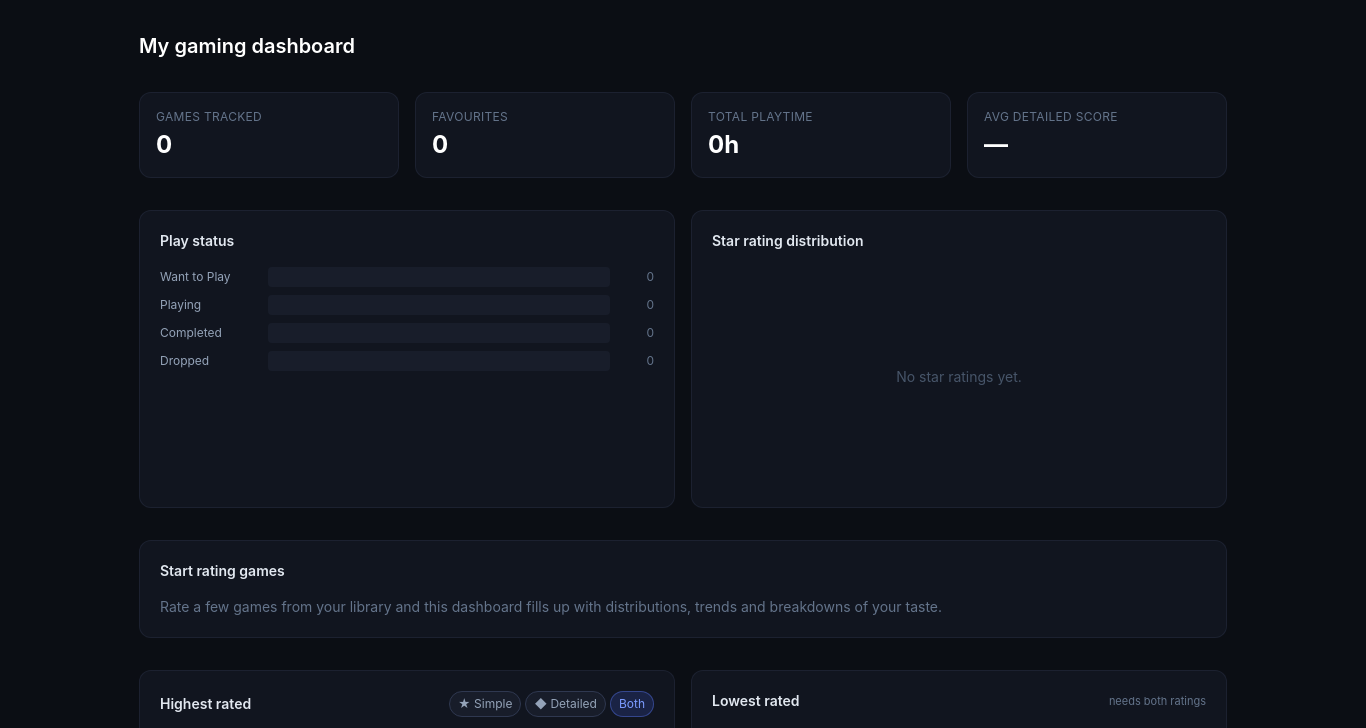
Test: Dashboard — breakdowns and lists › surfaces a refetch failure above the already-loaded stats
The width and height of the screenshot is (1366, 728).
expect the heading "My gaming dashboard" is shown: met, box [139, 34, 355, 58]
Click the button titled "Rank by ★ simple rating".
click(485, 704)  # box [449, 691, 521, 717]
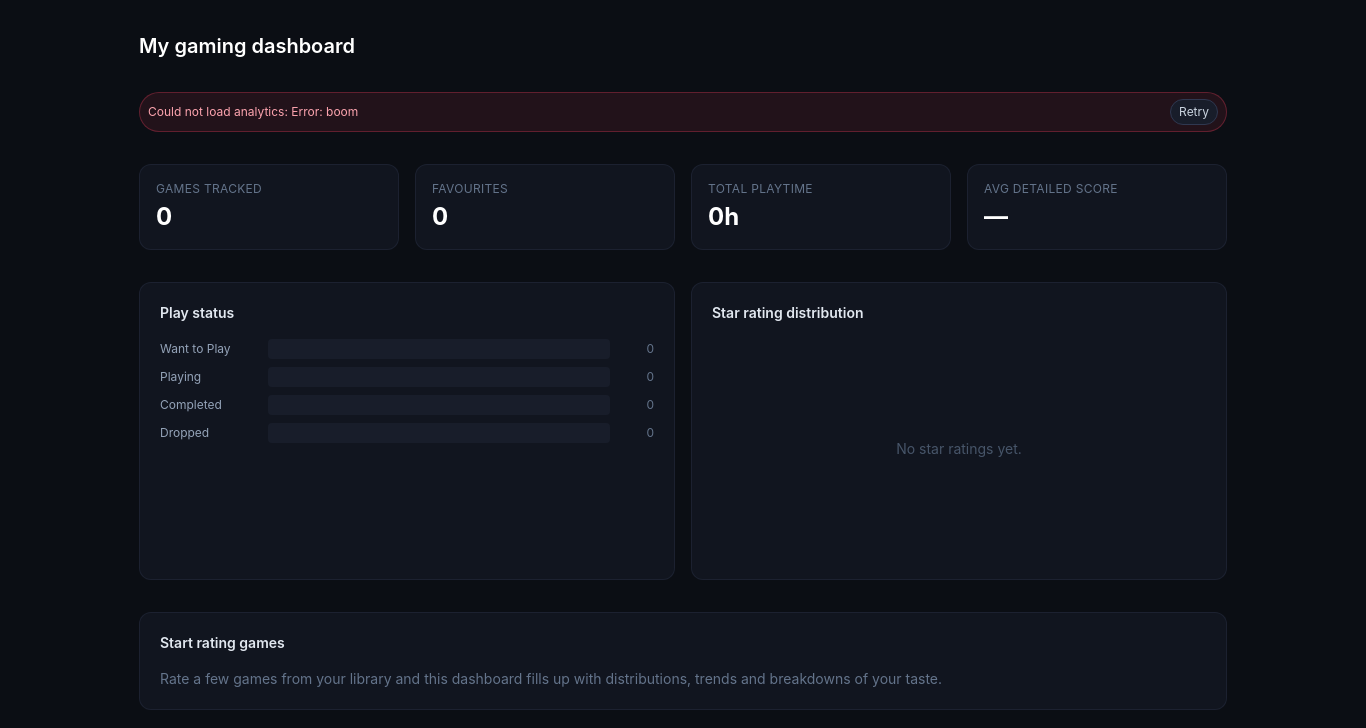
expect the text "Games tracked" is shown: met, box [156, 181, 262, 196]
expect the text "Could not load analytics: Error: boom" is shown: met, box [148, 104, 358, 120]
